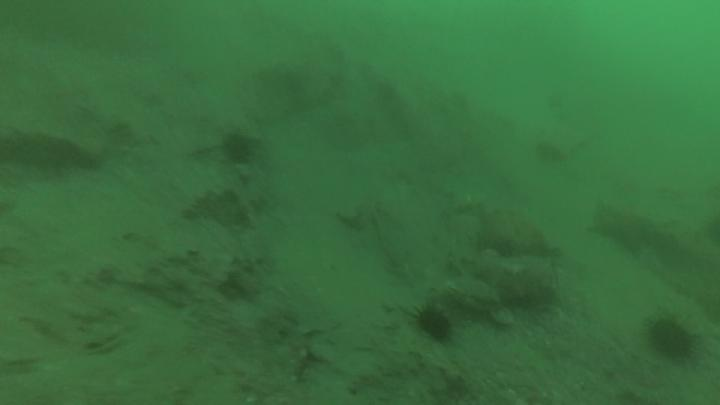echinus: (651, 319, 693, 358), (414, 308, 453, 340), (223, 136, 251, 162)
